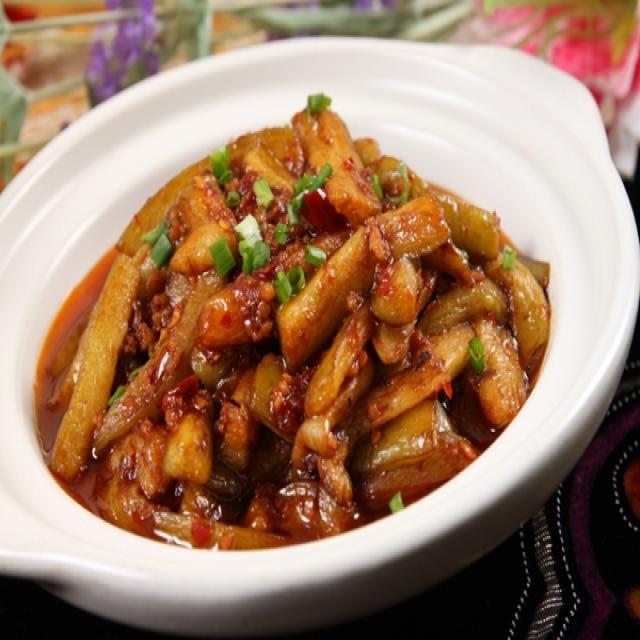鸡蛋料理: (24, 65, 582, 578)
